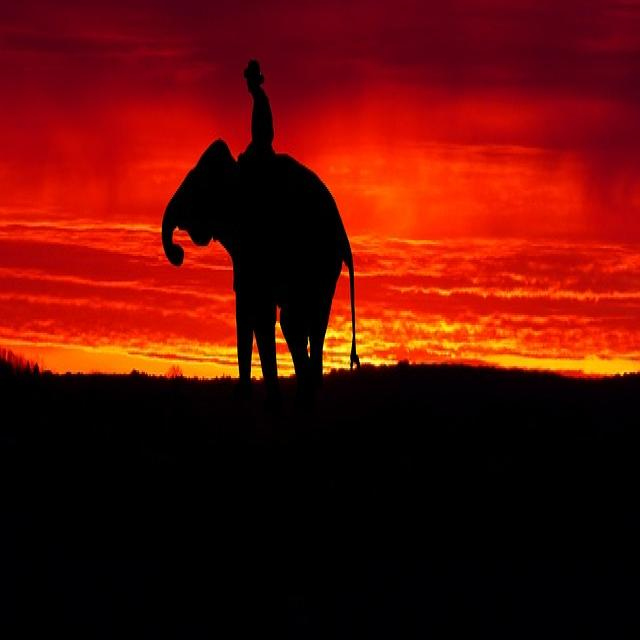FIL: (162, 137, 364, 385)
